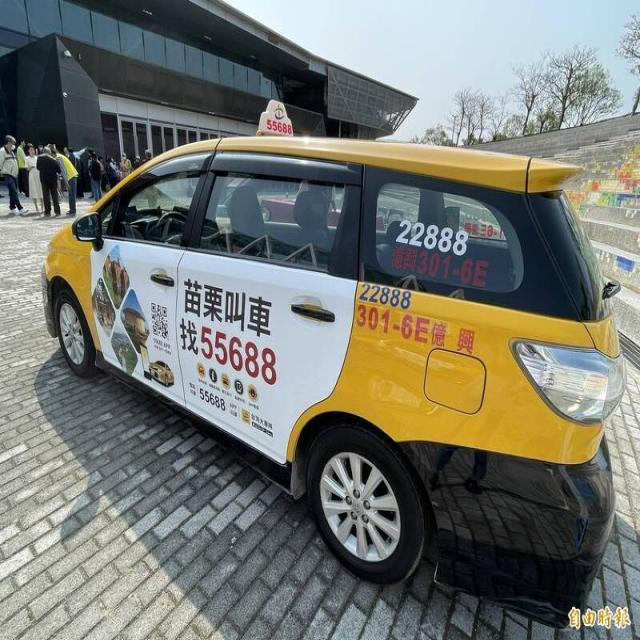taxi: (31, 88, 626, 639)
